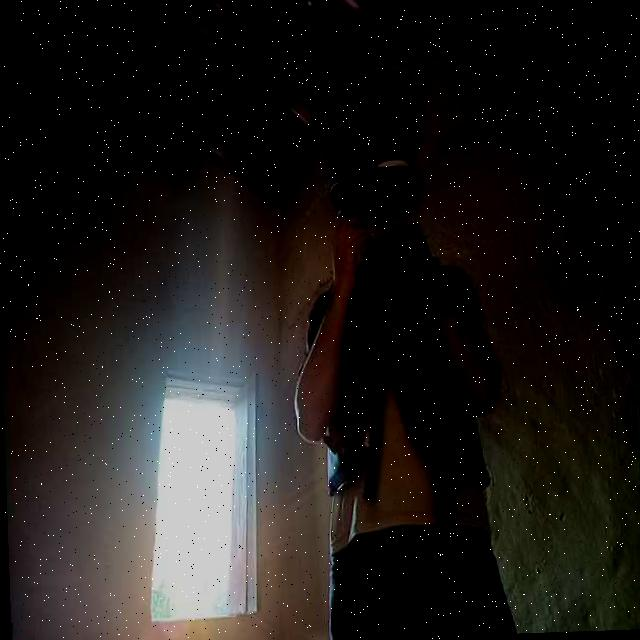capacete: (320, 70, 426, 218)
colete: (308, 249, 486, 488)
pessoa: (286, 110, 501, 640)
